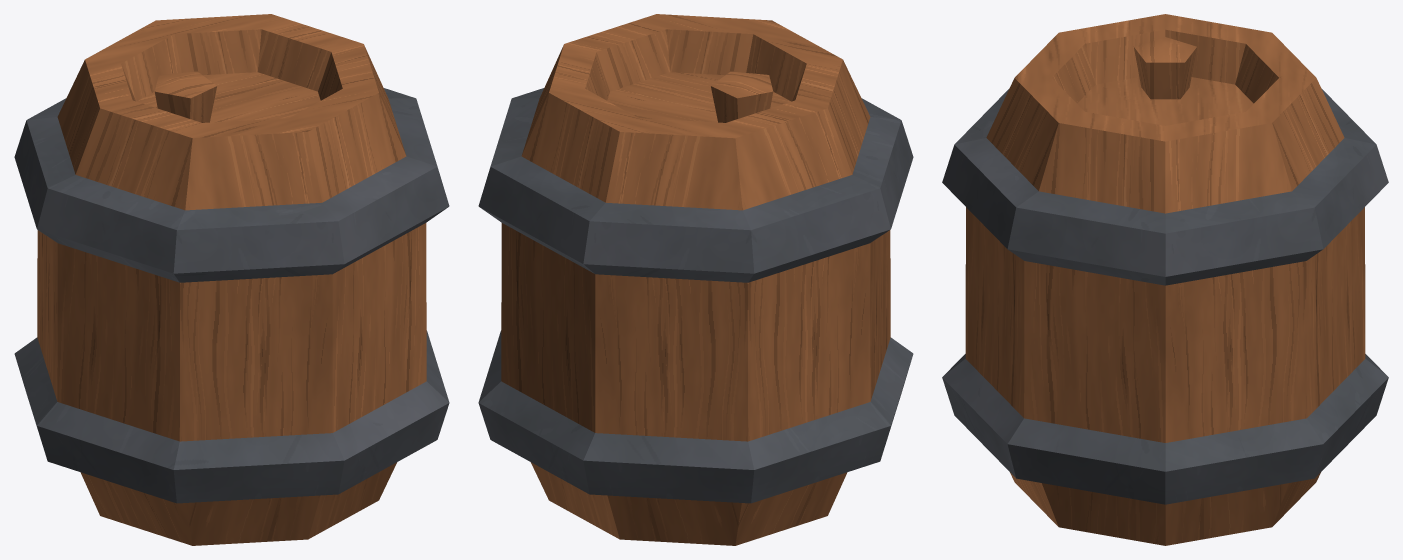
The model's file is barrel_small.gltf.
3 renders of one model, left to right at view 1: azimuth 30°, elevation 25°; view 2: azimuth 150°, elevation 25°; view 3: azimuth 270°, elevation 25°, orthographic.
Visible parts, largest first — view 1: barrel_small; view 2: barrel_small; view 3: barrel_small.
Boxes of the visible parts, left/top/right/bottom form: barrel_small: left=14, top=14, right=449, bottom=545; barrel_small: left=478, top=14, right=913, bottom=545; barrel_small: left=942, top=14, right=1388, bottom=545.
Size of the model in its own units: 1 by 1.02 by 1.
5 materials, 5 textured.
